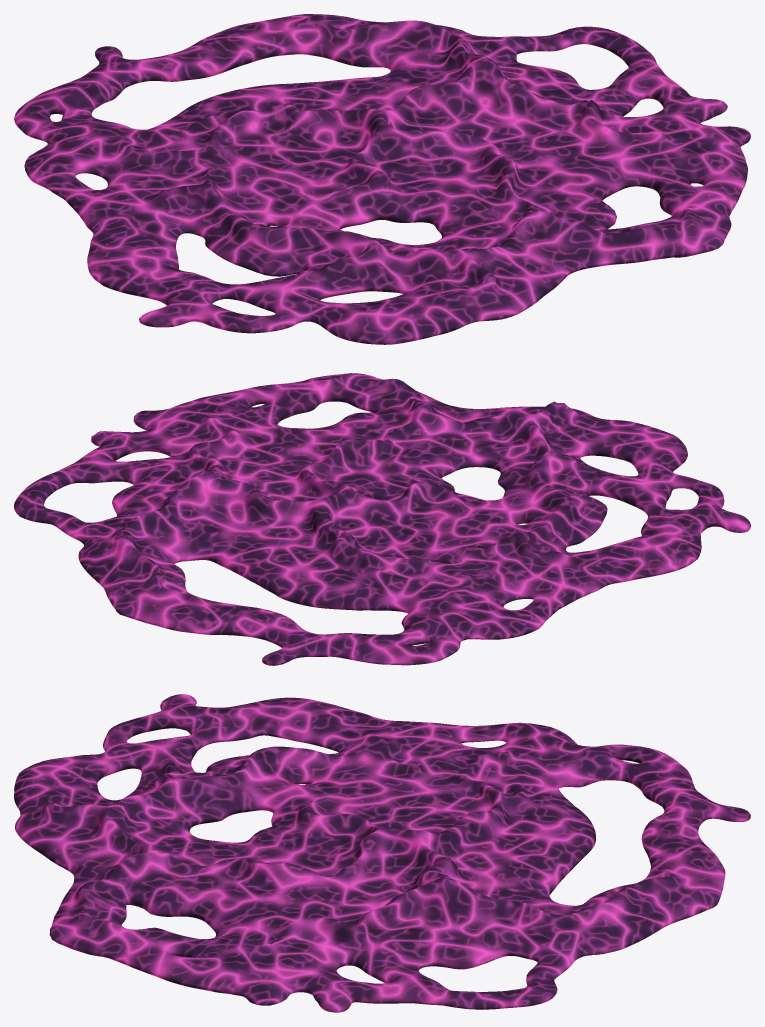
File: caos_stl_chaosgrowth_01b_chaos_v36.glb
The picture shows the model from 3 angles, top to bottom: view 1: azimuth 30°, elevation 25°; view 2: azimuth 150°, elevation 25°; view 3: azimuth 270°, elevation 25°; orthographic projection. The views are drawn at different scales.
Visible parts, largest first — view 1: caos_stl_chaosgrowth_01b; view 2: caos_stl_chaosgrowth_01b; view 3: caos_stl_chaosgrowth_01b.
Part boxes in pixels (x1=…): caos_stl_chaosgrowth_01b: x1=14, y1=14, x2=750, y2=344; caos_stl_chaosgrowth_01b: x1=14, y1=373, x2=750, y2=665; caos_stl_chaosgrowth_01b: x1=14, y1=694, x2=750, y2=1012.
Bounding box in the file's own units: 14.71 × 1.05 × 14.54.
Materials: 1 (1 with a texture image).
